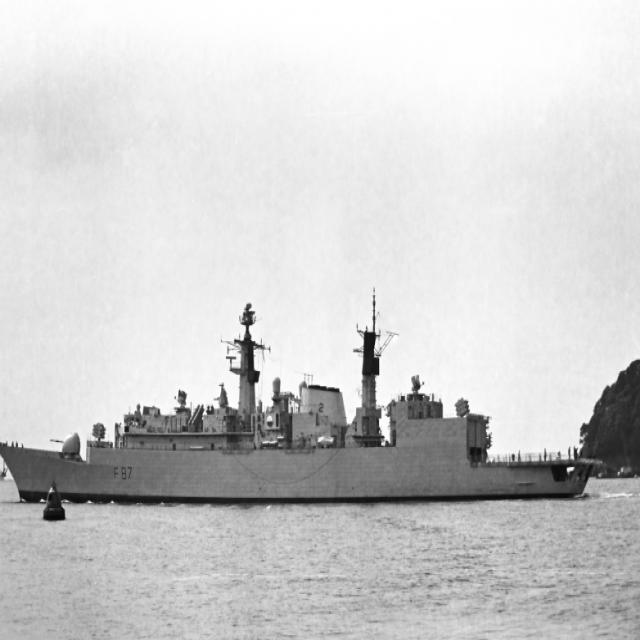Fragata: (1, 290, 594, 509)
